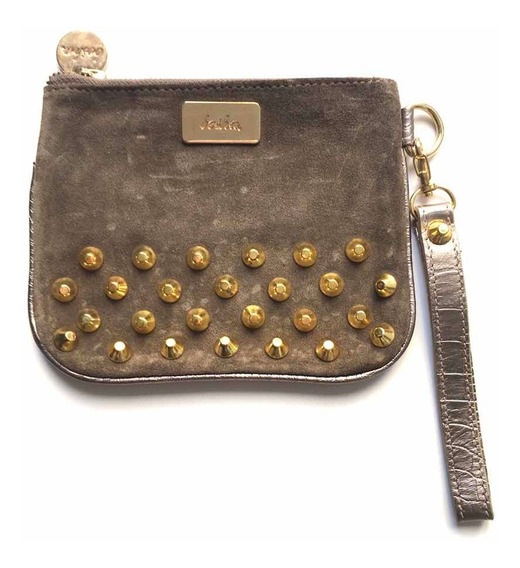cartera: (25, 68, 420, 386)
